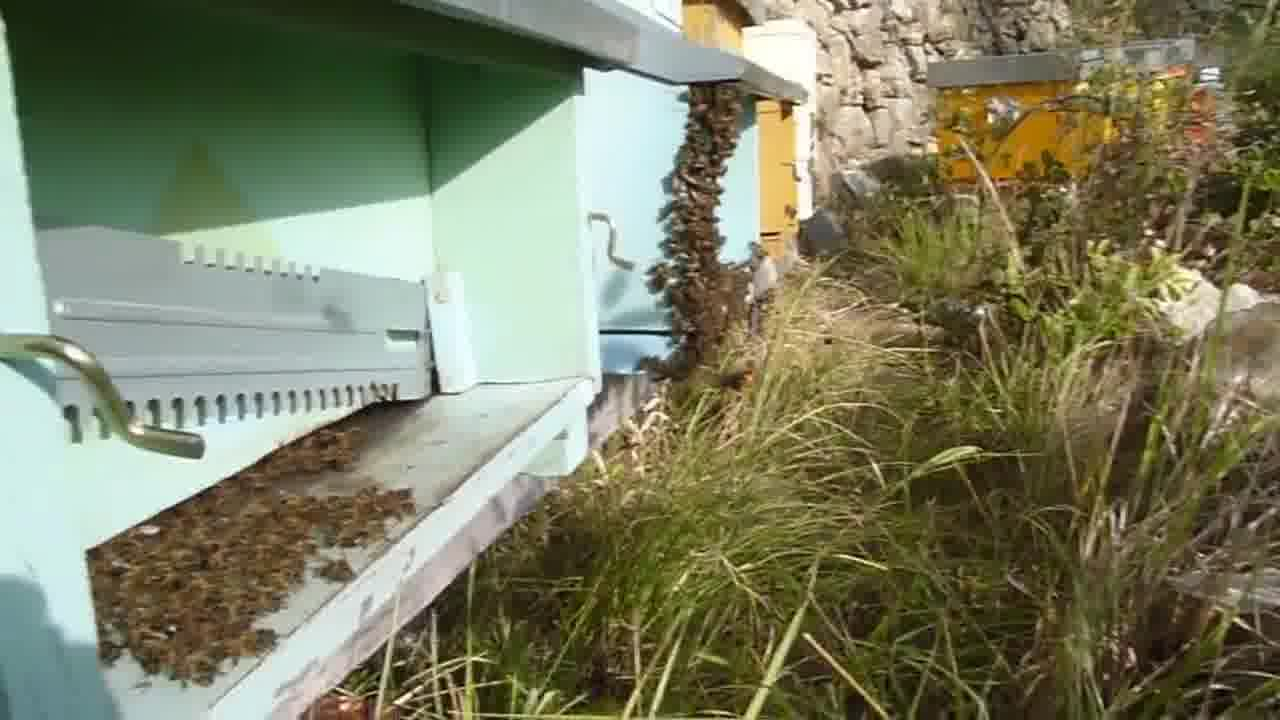bee: (99, 545, 285, 686), (167, 483, 420, 544), (656, 251, 756, 338), (663, 148, 731, 247), (682, 82, 750, 155), (275, 436, 361, 479), (308, 550, 365, 593)
